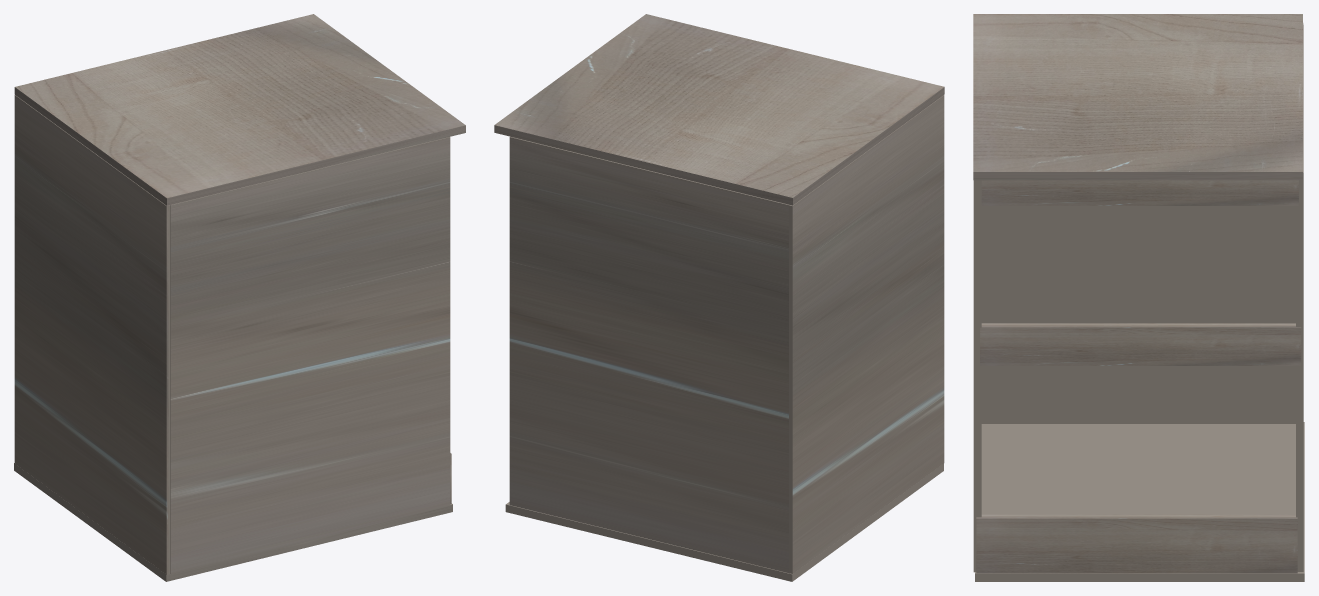
Rendered from ikeasmall_base.dae.
The picture shows the model from 3 angles, left to right: view 1: azimuth 30°, elevation 25°; view 2: azimuth 150°, elevation 25°; view 3: azimuth 270°, elevation 25°; orthographic projection. The views are drawn at different scales.
Parts seen in each view (by area): view 1: Cube_000; view 2: Cube_000; view 3: Cube_000.
Boxes of the visible parts, <box> form: Cube_000: <box>14,14,465,581</box>; Cube_000: <box>494,14,944,581</box>; Cube_000: <box>973,14,1304,581</box>.
Bounding box in the file's own units: 0.396 × 0.3504 × 0.4861.
Materials: 1 (1 with a texture image).
